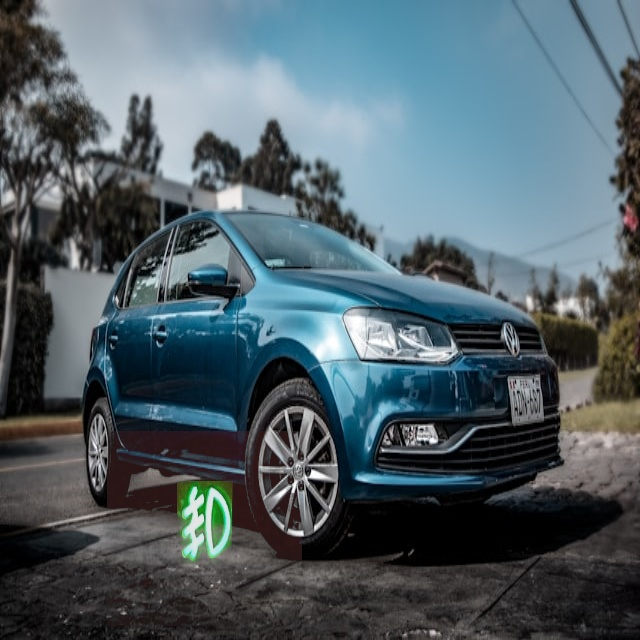symbol: (107, 431, 302, 626)
